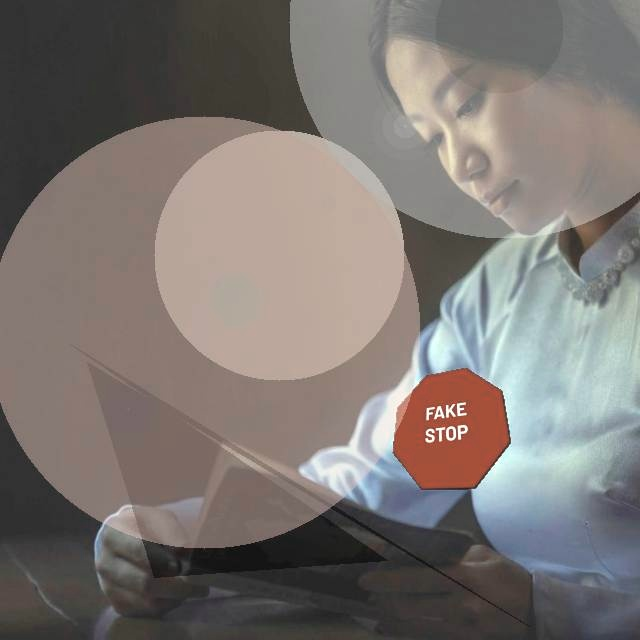FAKE_STOP: (392, 367, 511, 490)
